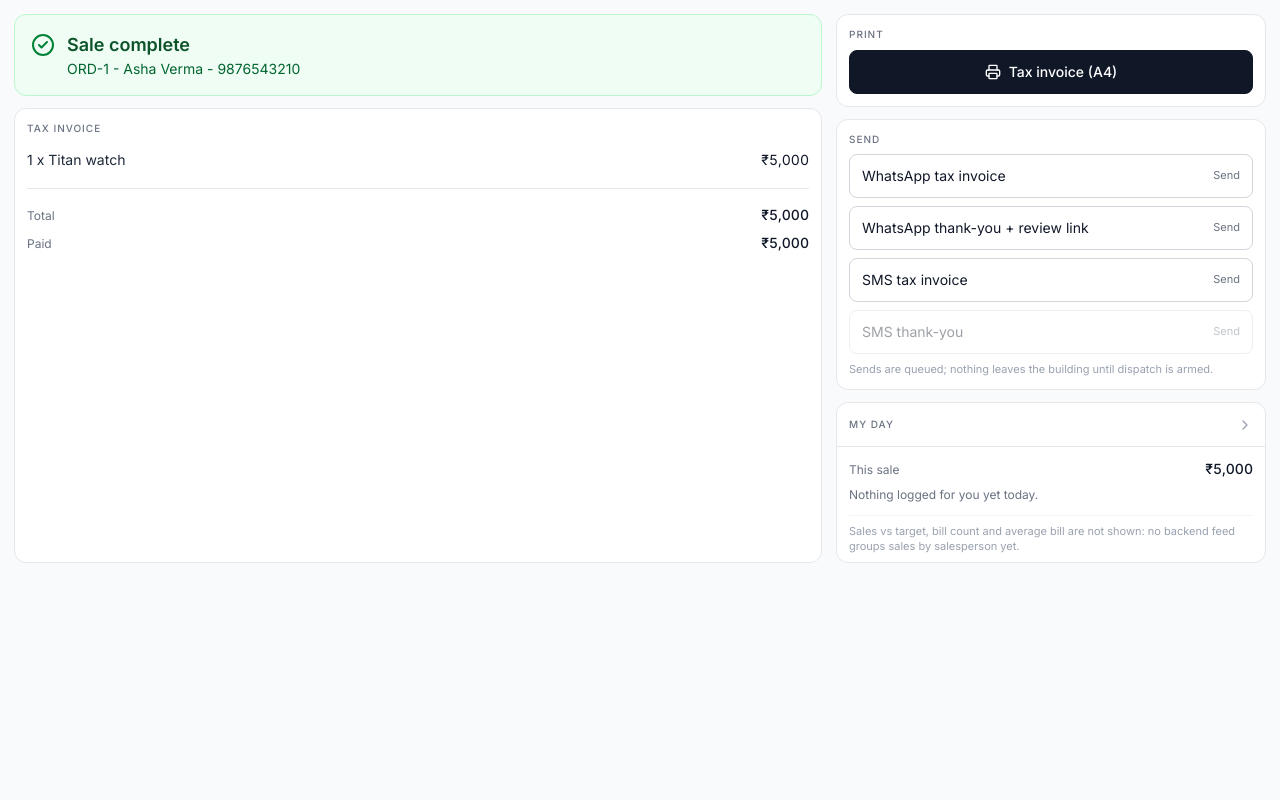
Test: the general counter completion screen › a refused invoice shows the server's own reason, not a fixed GSTIN hint
The width and height of the screenshot is (1280, 800).
Expected: the text "ORD-1 - Asha Verma - 9876543210" is shown, [67,59,300,79]
Click the button "Tax invoice (A4)".
click(1051, 72)  # box [849,50,1253,94]
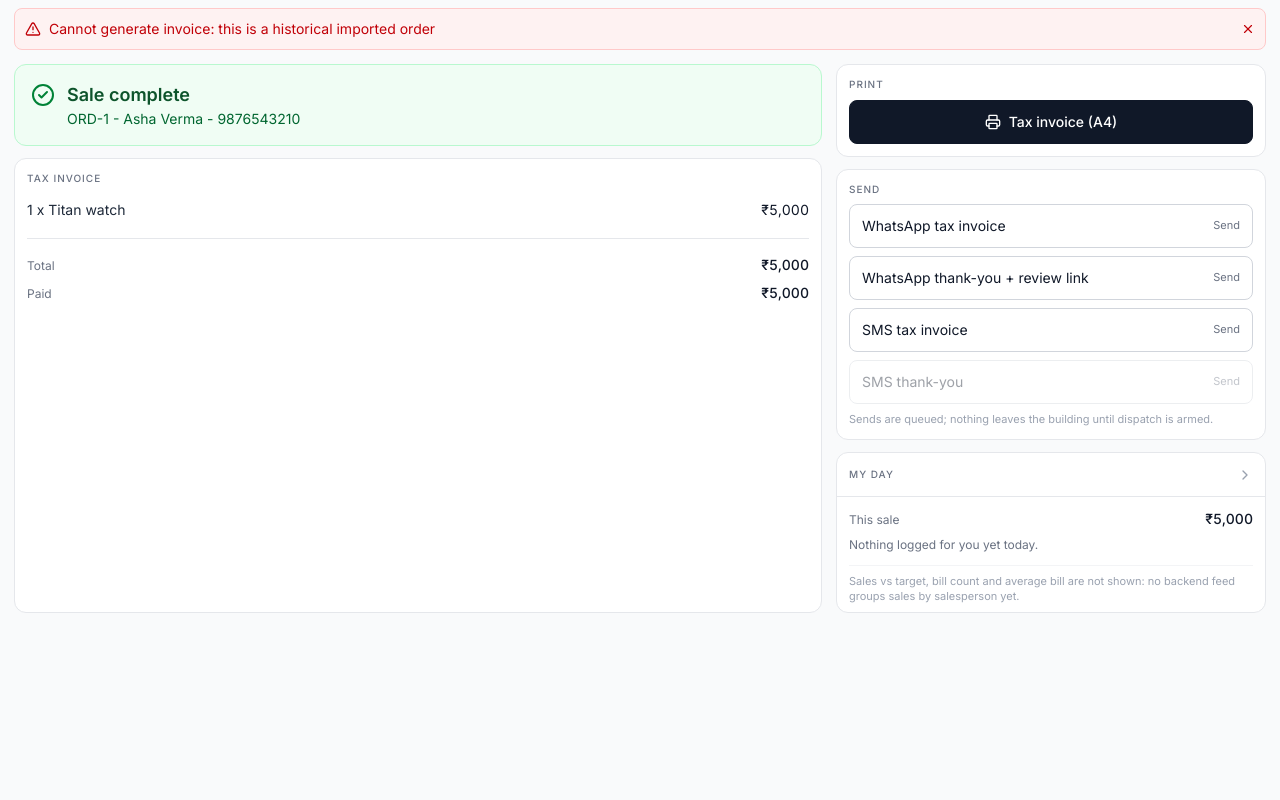
Now the text "Cannot generate invoice: this is a historical imported order" is shown, box [49,20,435,37]
